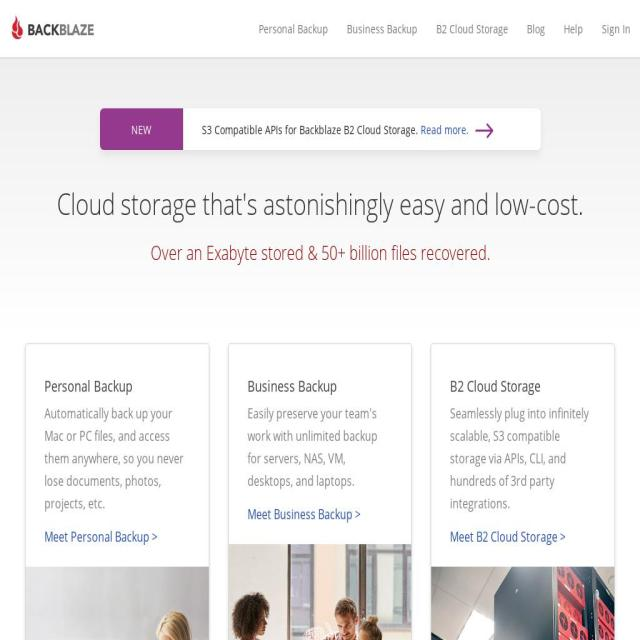button: (44, 369, 190, 512), (450, 369, 596, 512), (228, 544, 412, 640), (247, 369, 393, 489), (25, 566, 208, 640), (431, 566, 614, 640), (450, 515, 566, 567), (44, 515, 158, 567), (247, 493, 361, 544), (0, 0, 131, 42), (337, 8, 427, 50), (427, 8, 517, 50), (250, 8, 338, 50), (420, 116, 494, 142), (554, 8, 592, 50), (592, 8, 630, 50), (518, 8, 554, 50)
heading: (9, 183, 630, 225), (44, 369, 190, 403), (247, 369, 393, 403), (450, 369, 596, 403), (150, 239, 321, 266), (337, 239, 490, 266), (320, 239, 338, 266)
image: (228, 544, 412, 640), (25, 566, 208, 640), (431, 566, 614, 640), (9, 15, 122, 41), (474, 121, 494, 140)
text: (44, 404, 184, 513), (450, 404, 589, 513), (247, 404, 377, 490), (201, 118, 421, 140), (99, 108, 183, 150), (420, 121, 469, 137)
